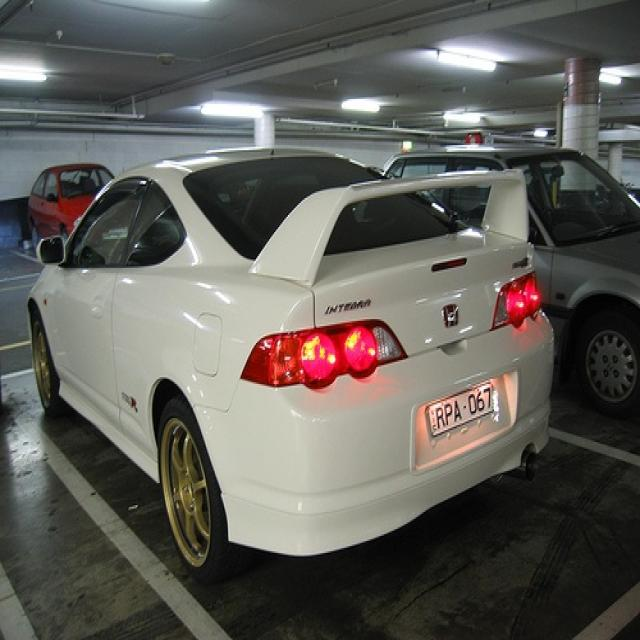car: (27, 145, 553, 585), (380, 147, 639, 413), (28, 162, 115, 248)
